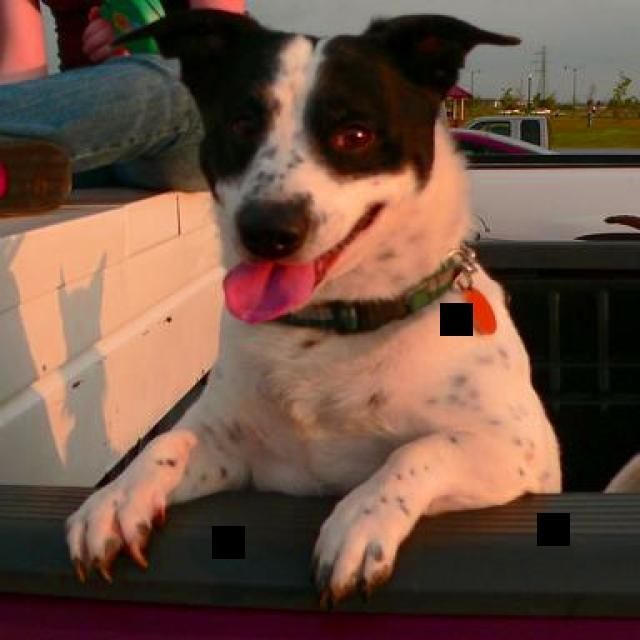adult_dog: (64, 8, 562, 609)
